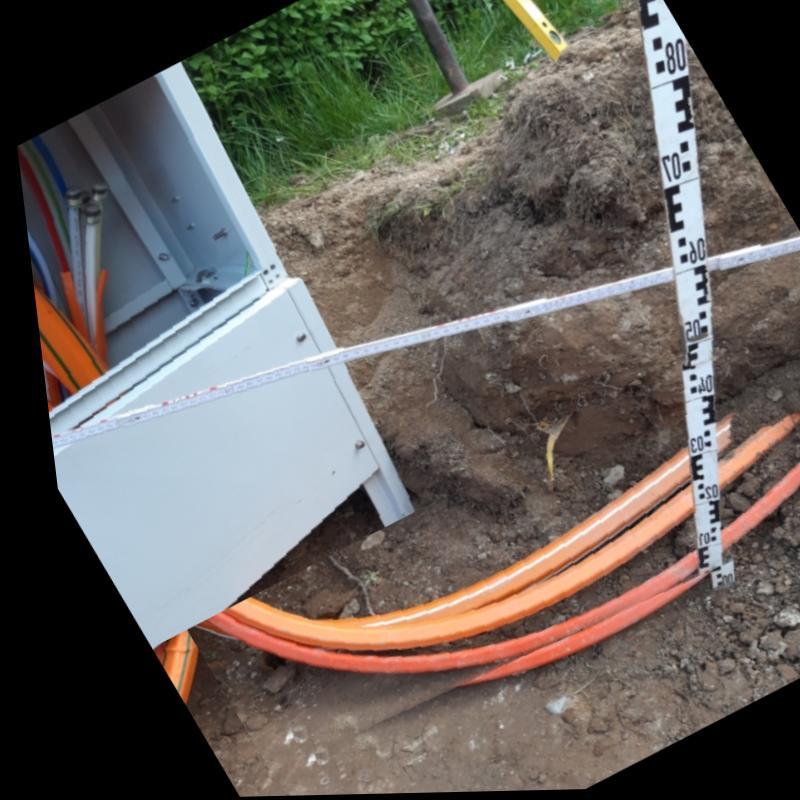NT-Gehause: (14, 63, 378, 647)
Orang-Speednetrohrchen: (168, 416, 800, 679)
